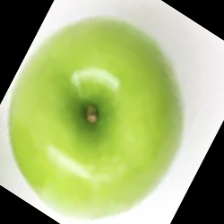apple: (44, 12, 185, 188)
